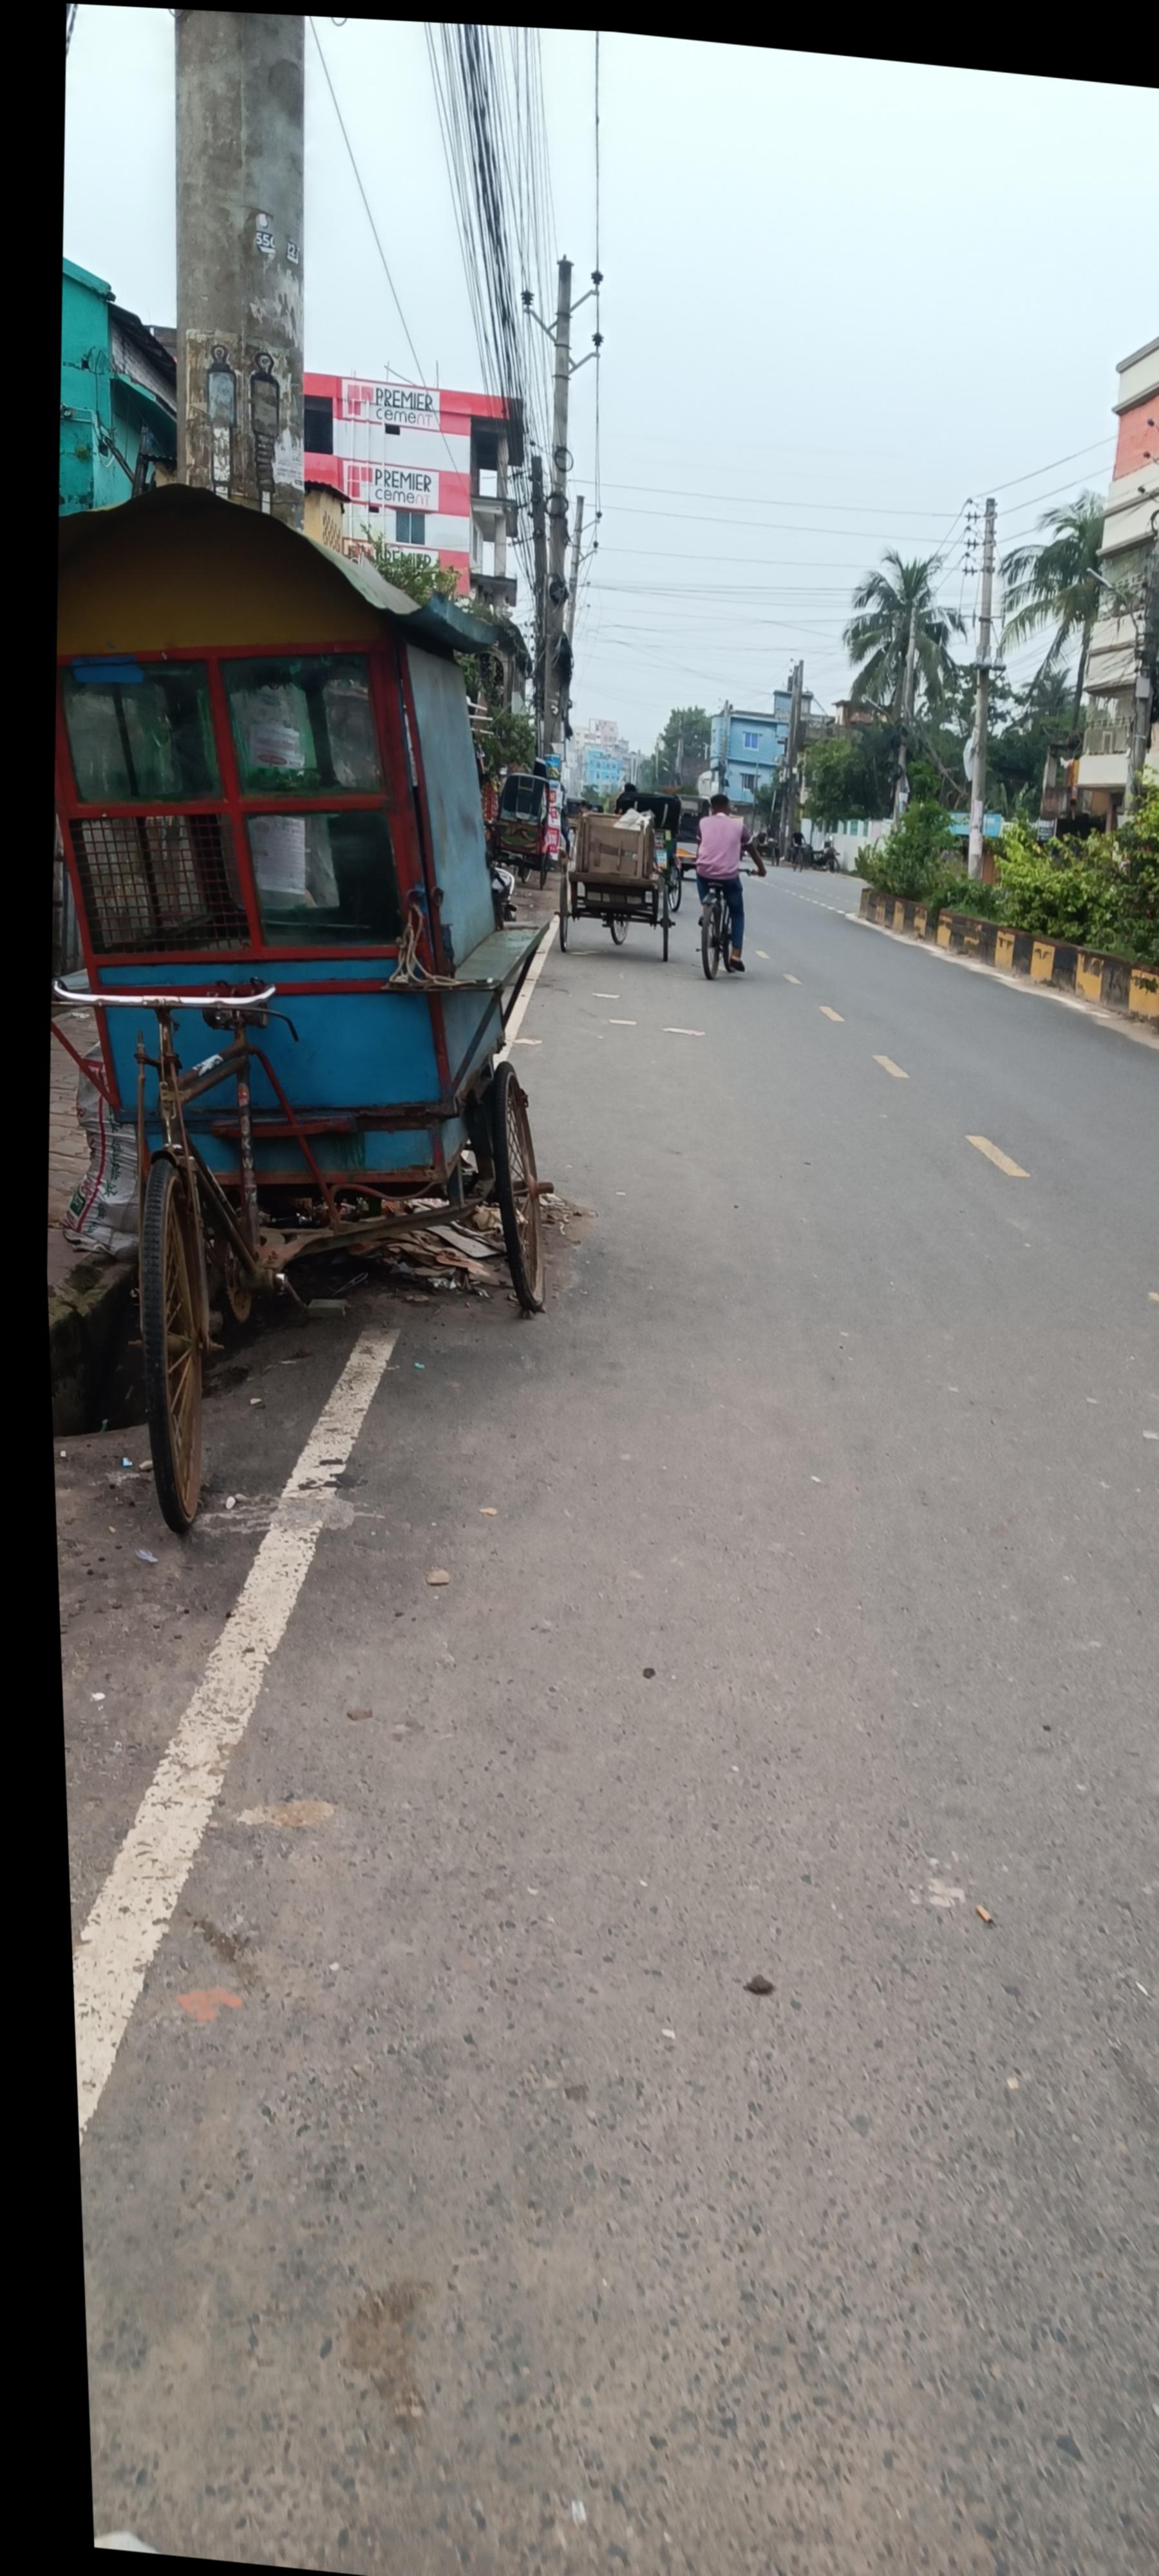Garbage-bin: (745, 759, 831, 943)
Traffic-cone: (92, 457, 640, 1543)
